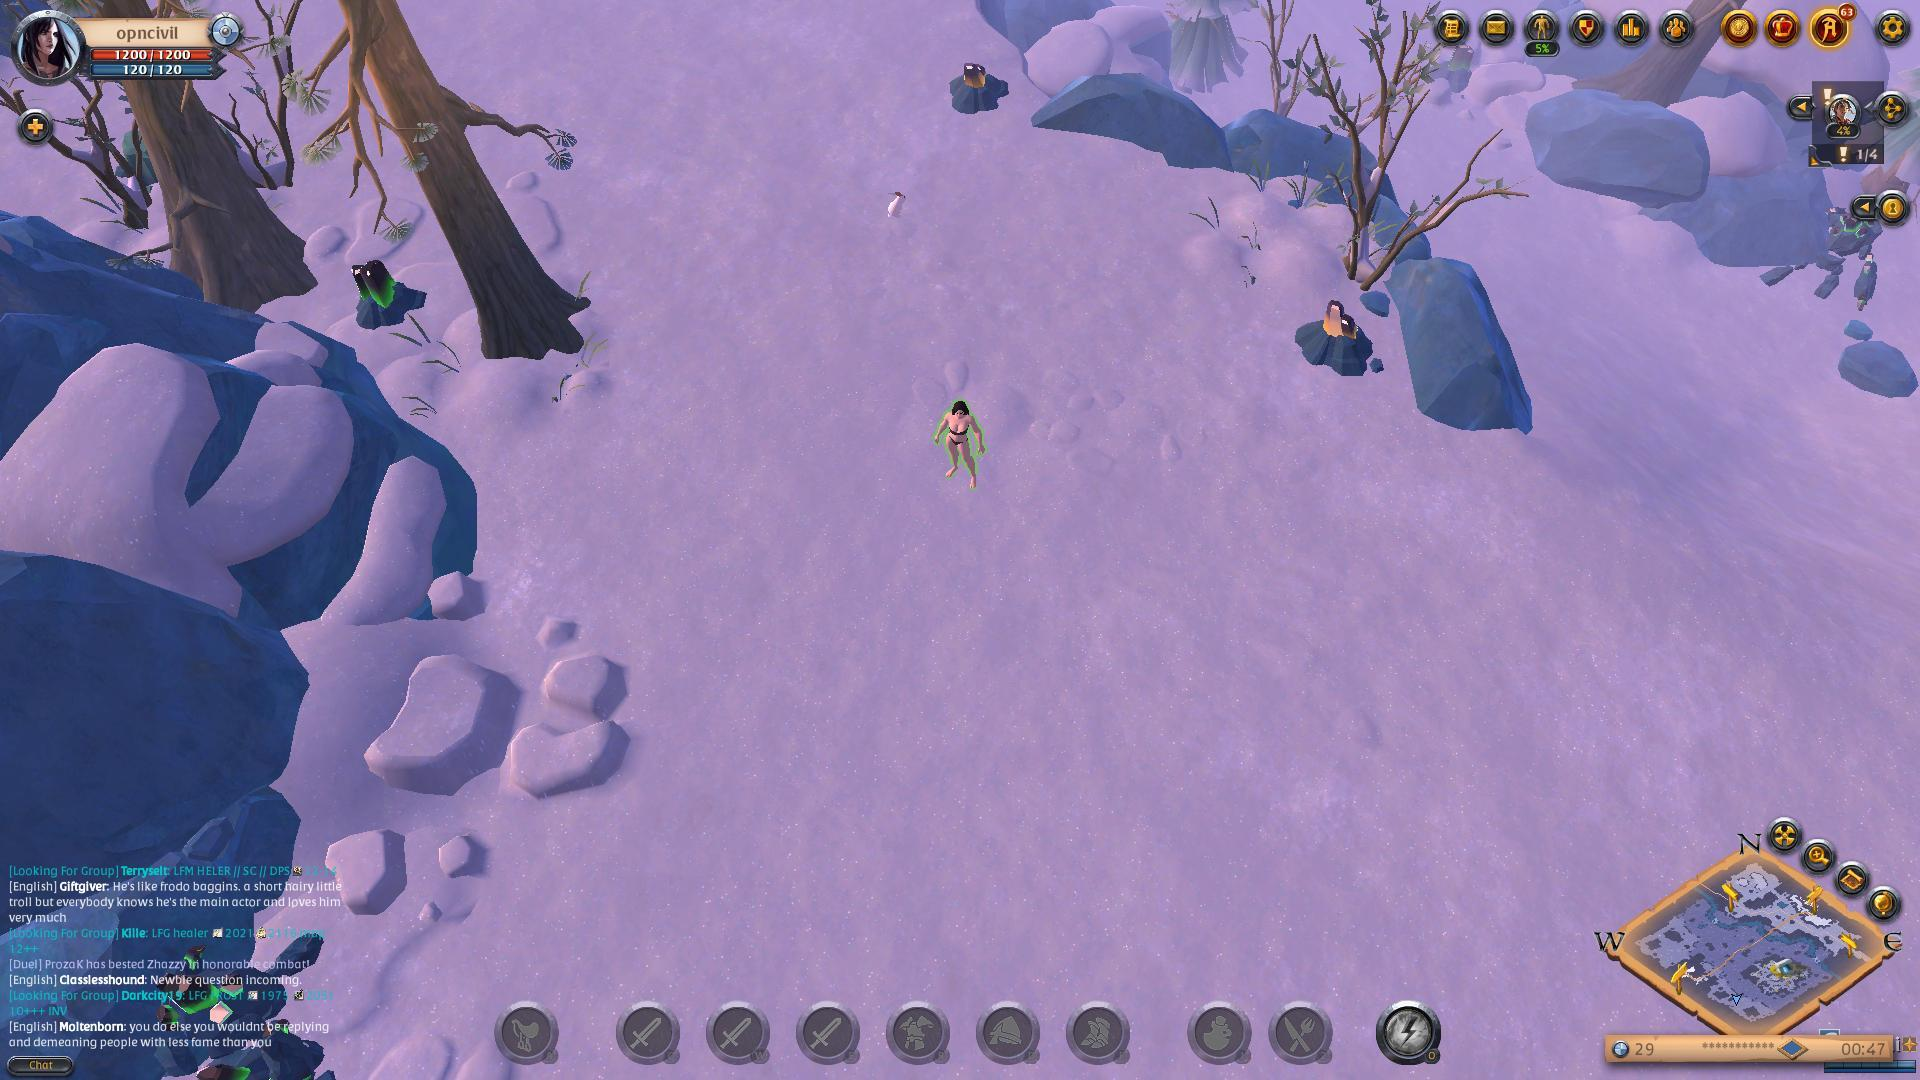copper_ore: (1286, 301, 1395, 380), (938, 65, 1019, 120)
tin_ore: (342, 261, 436, 334)
